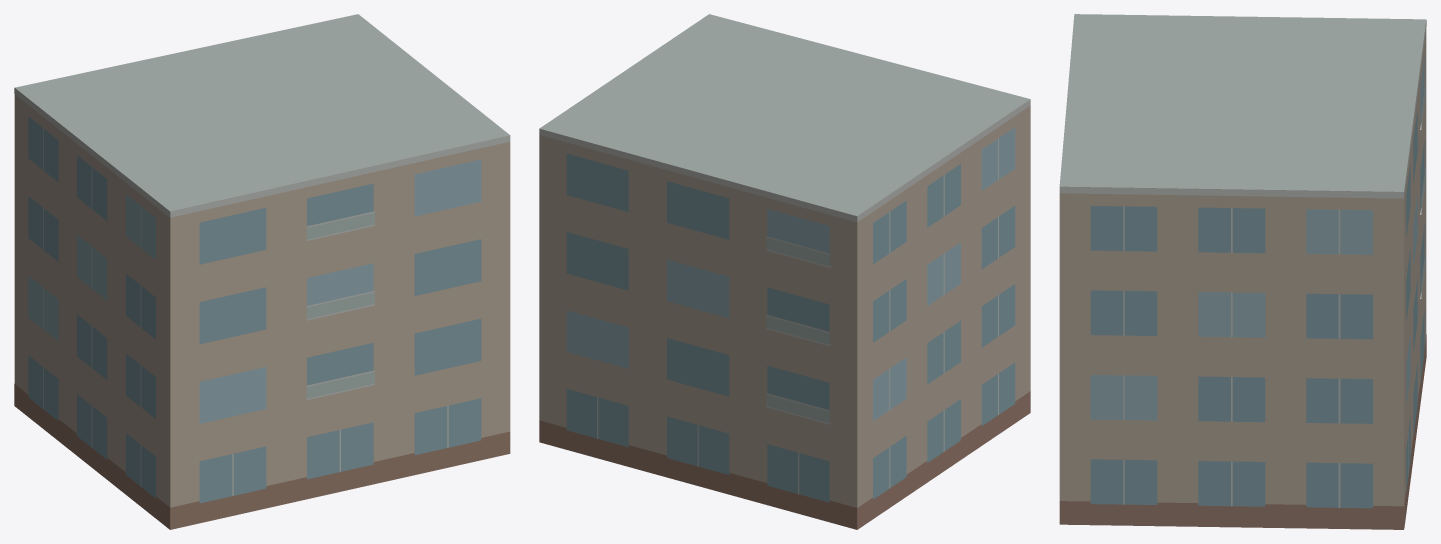
Rendered from survey-upis-32638047.glb.
3 renders of one model, left to right at view 1: azimuth 30°, elevation 25°; view 2: azimuth 150°, elevation 25°; view 3: azimuth 270°, elevation 25°, orthographic. The views are drawn at different scales.
Parts seen in each view (by area): view 1: survey-upis-32638047.tmp; view 2: survey-upis-32638047.tmp; view 3: survey-upis-32638047.tmp.
Boxes of the visible parts, x1=… form: survey-upis-32638047.tmp: x1=14, y1=14, x2=510, y2=529; survey-upis-32638047.tmp: x1=539, y1=14, x2=1030, y2=529; survey-upis-32638047.tmp: x1=1059, y1=14, x2=1426, y2=529.
Bounding box in the file's own units: 13.9 × 12.3 × 12.11.
